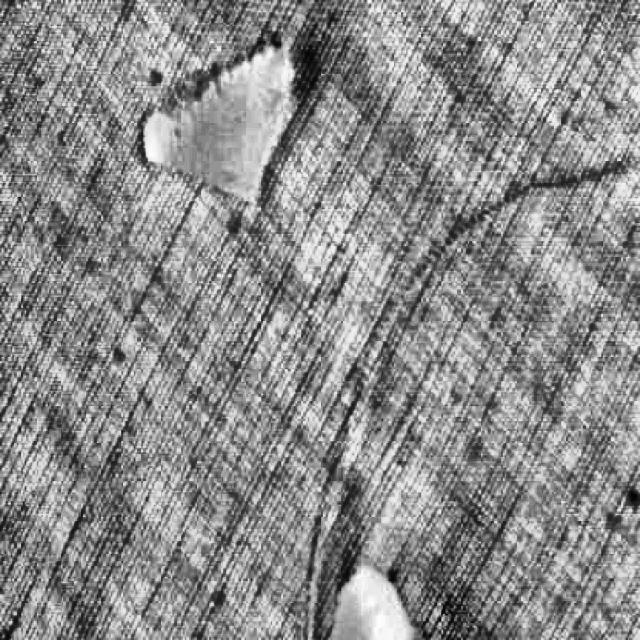objects: (134, 27, 304, 225), (335, 565, 422, 639)
thread_error: (317, 136, 639, 563), (307, 568, 331, 638)
